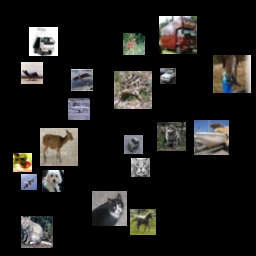airplane: (21, 62, 43, 84), (68, 98, 90, 120), (71, 69, 93, 91), (21, 174, 37, 190)
automobile: (124, 135, 143, 154), (160, 68, 176, 84)
bird: (213, 55, 251, 93)
cat: (92, 191, 127, 226), (21, 216, 53, 248), (157, 122, 186, 151), (131, 158, 150, 177)
deer: (40, 128, 78, 166), (123, 33, 145, 55)
dog: (42, 170, 64, 192), (13, 153, 32, 172)
frog: (114, 71, 152, 109)
ship: (194, 120, 229, 155)
